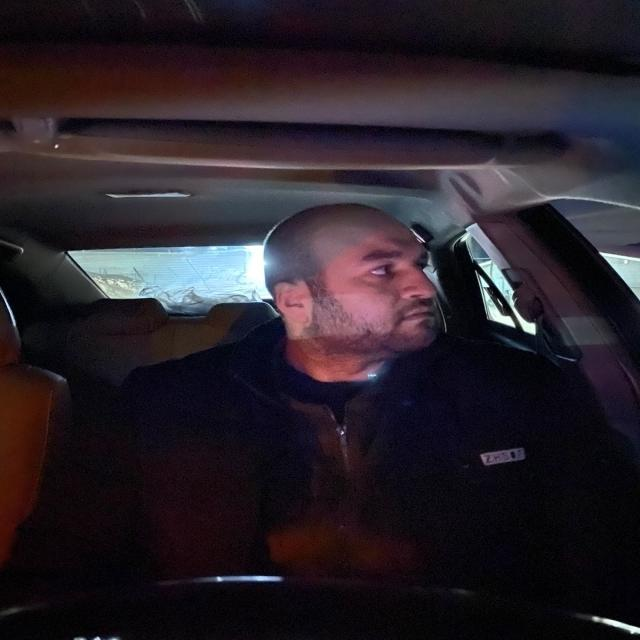LeftRight: (253, 195, 452, 364)
